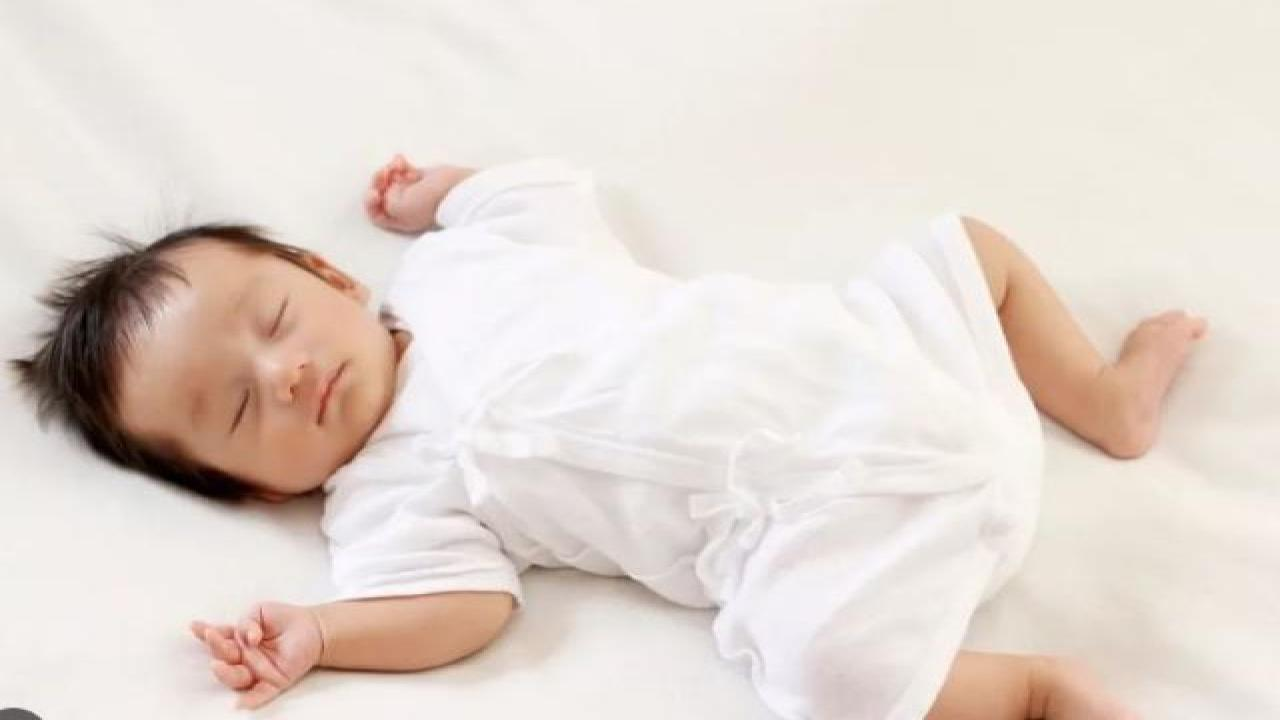hand: (182, 595, 325, 717), (358, 150, 444, 236)
